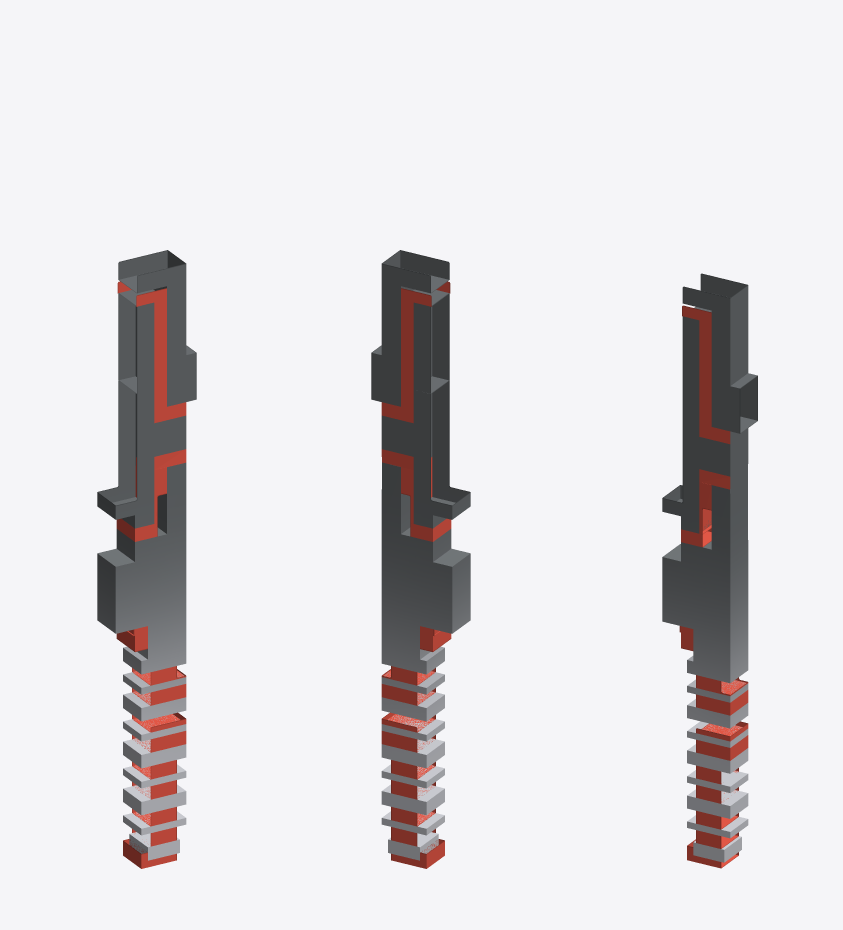
Rendered from zeroone.obj.
3 views of the same model, side by side, from view 1: azimuth 30°, elevation 25°; view 2: azimuth 150°, elevation 25°; view 3: azimuth 330°, elevation 25° (orthographic). The views are drawn at different scales.
Size of the model in its own units: 37.06 by 132 by 5.04.
